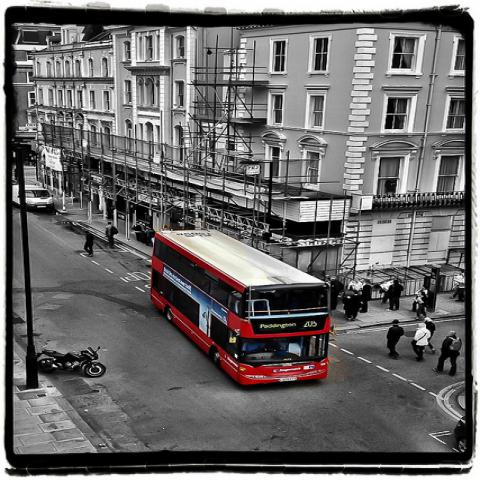bus: (150, 230, 328, 388)
car: (14, 178, 54, 208), (449, 413, 468, 456)
motorcycle: (36, 346, 106, 378)
truck: (12, 183, 54, 208)
